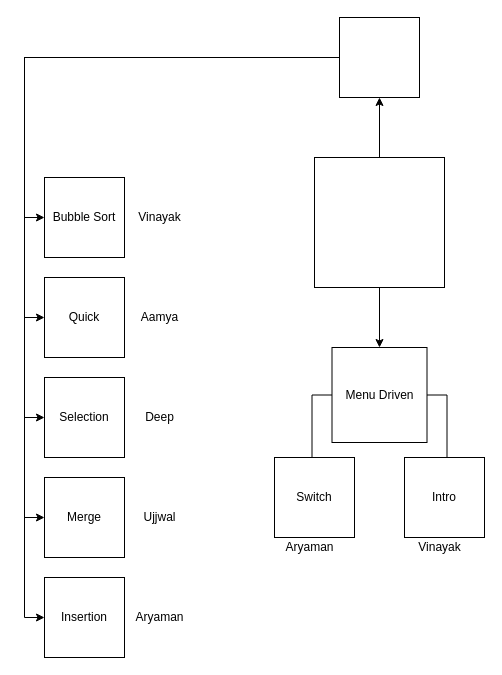
This 502x675 diagram has some shape labels left out. Here are the shapes that lost their labels. From the top down, the box of each, then its label:
(338, 16, 420, 98): Sorts
(314, 156, 444, 288): Main Program
